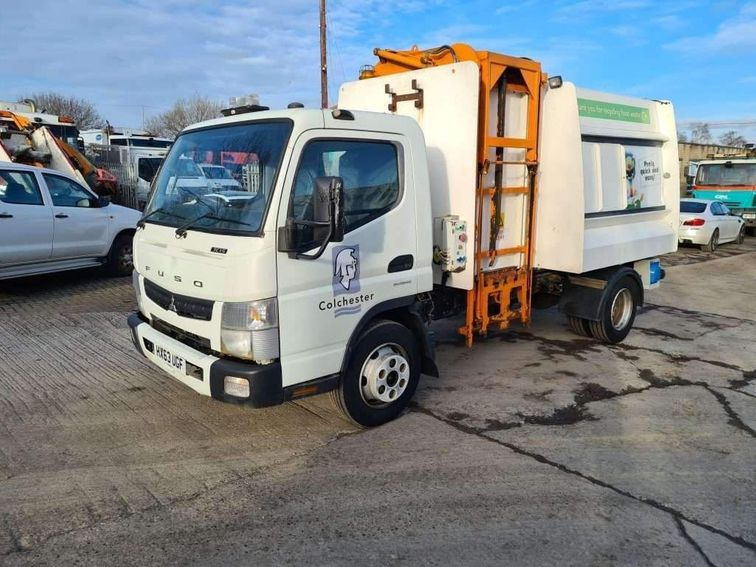Car: (0, 163, 142, 282), (677, 198, 743, 253)
Semi: (131, 41, 677, 426)
